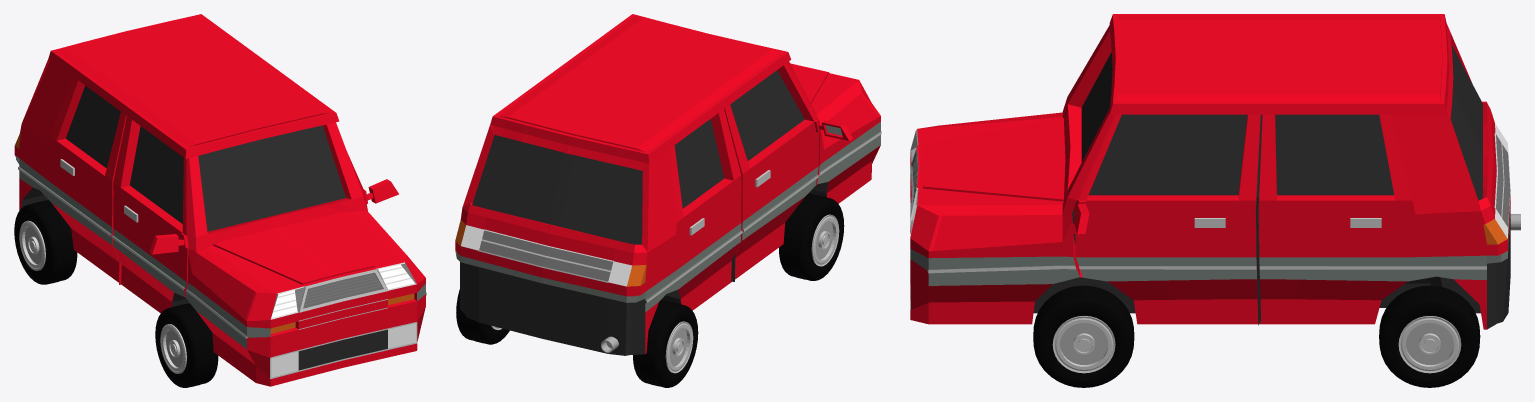
File: CR-CAR-19A.fbx
The picture shows the model from 3 angles, left to right: view 1: azimuth 30°, elevation 25°; view 2: azimuth 150°, elevation 25°; view 3: azimuth 270°, elevation 25°; orthographic projection. The views are drawn at different scales.
Visible parts, largest first — view 1: BODY, WHEEL.004, WHEEL.001; view 2: BODY, WHEEL.001, WHEEL.004, WHEEL.002; view 3: BODY, WHEEL.003, WHEEL.002.
Boxes of the visible parts, left/top/right/bottom form: BODY: left=14, top=14, right=426, bottom=386; WHEEL.004: left=14, top=200, right=77, bottom=284; WHEEL.001: left=155, top=303, right=218, bottom=387; BODY: left=455, top=14, right=881, bottom=355; WHEEL.001: left=779, top=193, right=844, bottom=280; WHEEL.004: left=633, top=300, right=698, bottom=387; WHEEL.002: left=456, top=289, right=509, bottom=344; BODY: left=910, top=14, right=1510, bottom=329; WHEEL.003: left=1033, top=285, right=1134, bottom=387; WHEEL.002: left=1379, top=285, right=1480, bottom=387.
Bounding box in the file's own units: 135 × 117 × 236.
